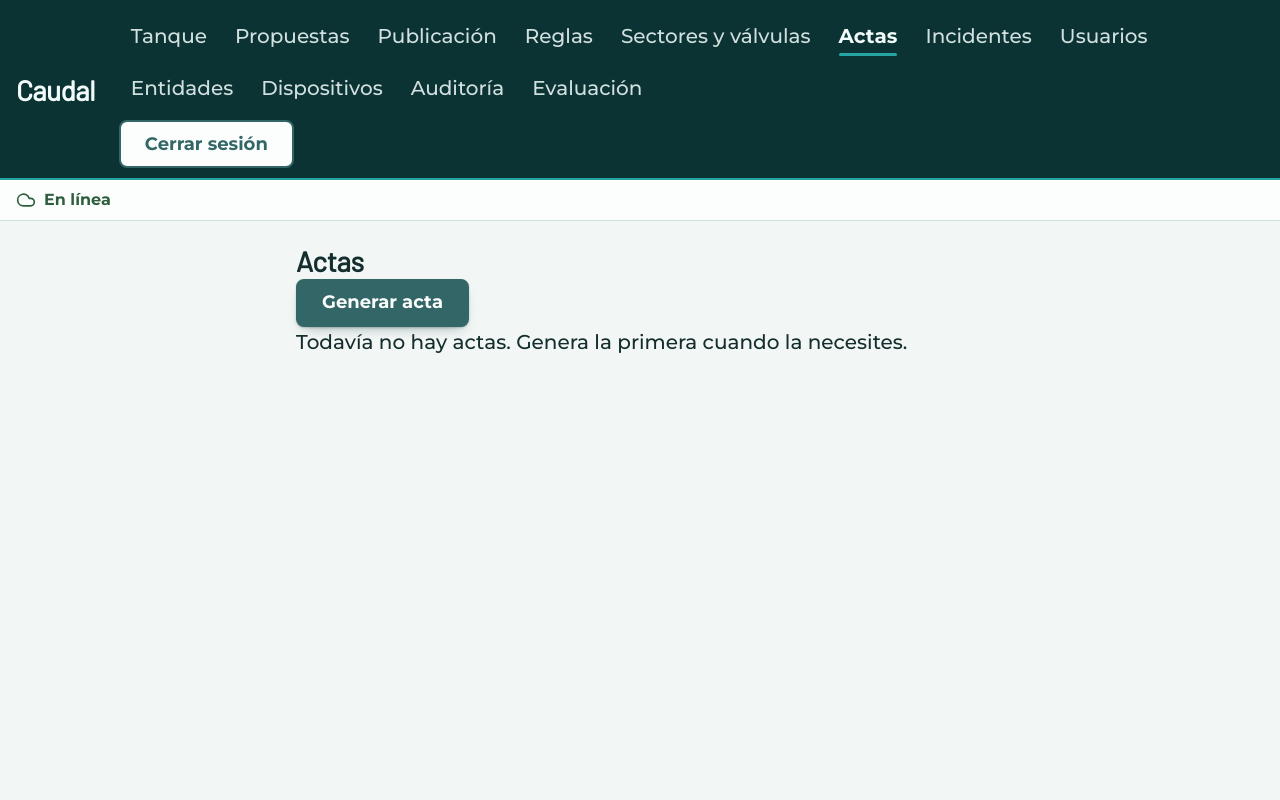
MinutesPage (S20, board) › refuses a period whose end is before its start, without asking the server
Click the button "Generar acta" at (382, 303), box left=296, top=279, right=469, bottom=327
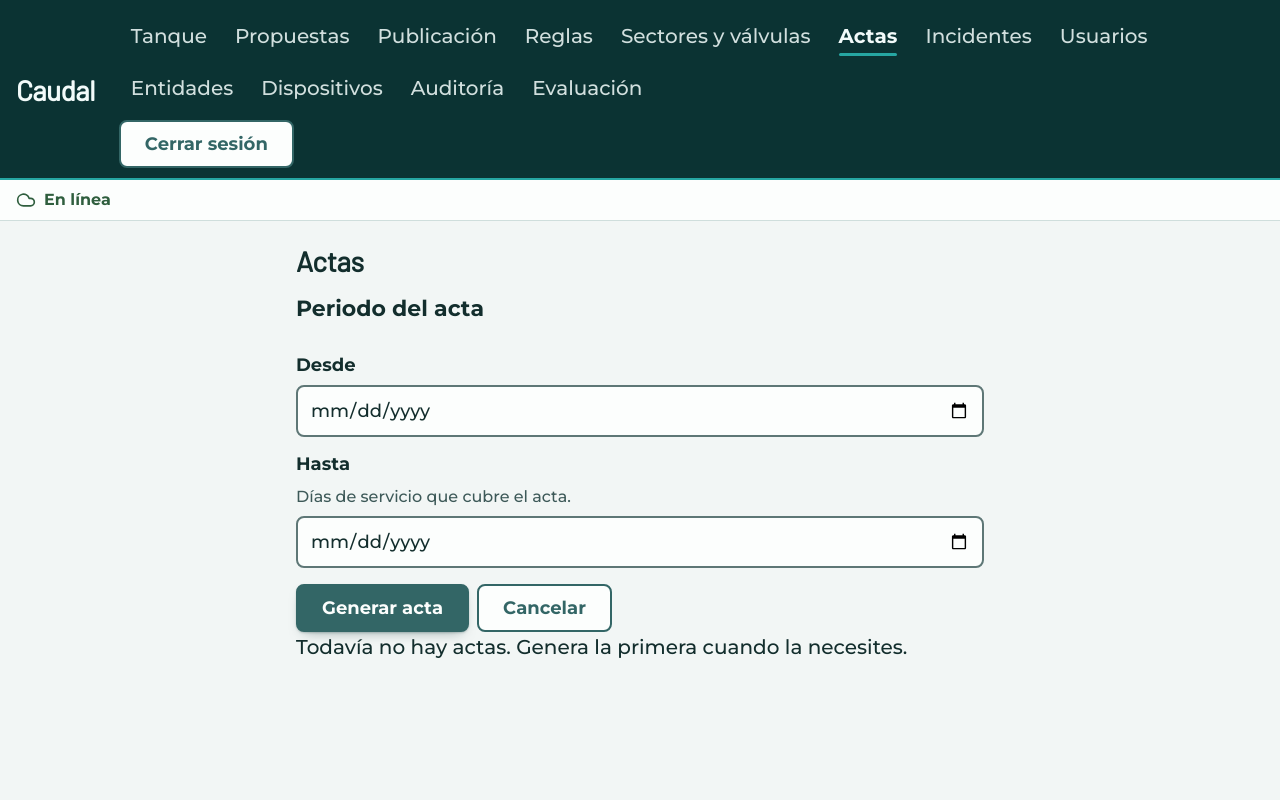
Type "2026-10-07" into the date field labelled "Desde" at (640, 412), box left=296, top=386, right=984, bottom=438
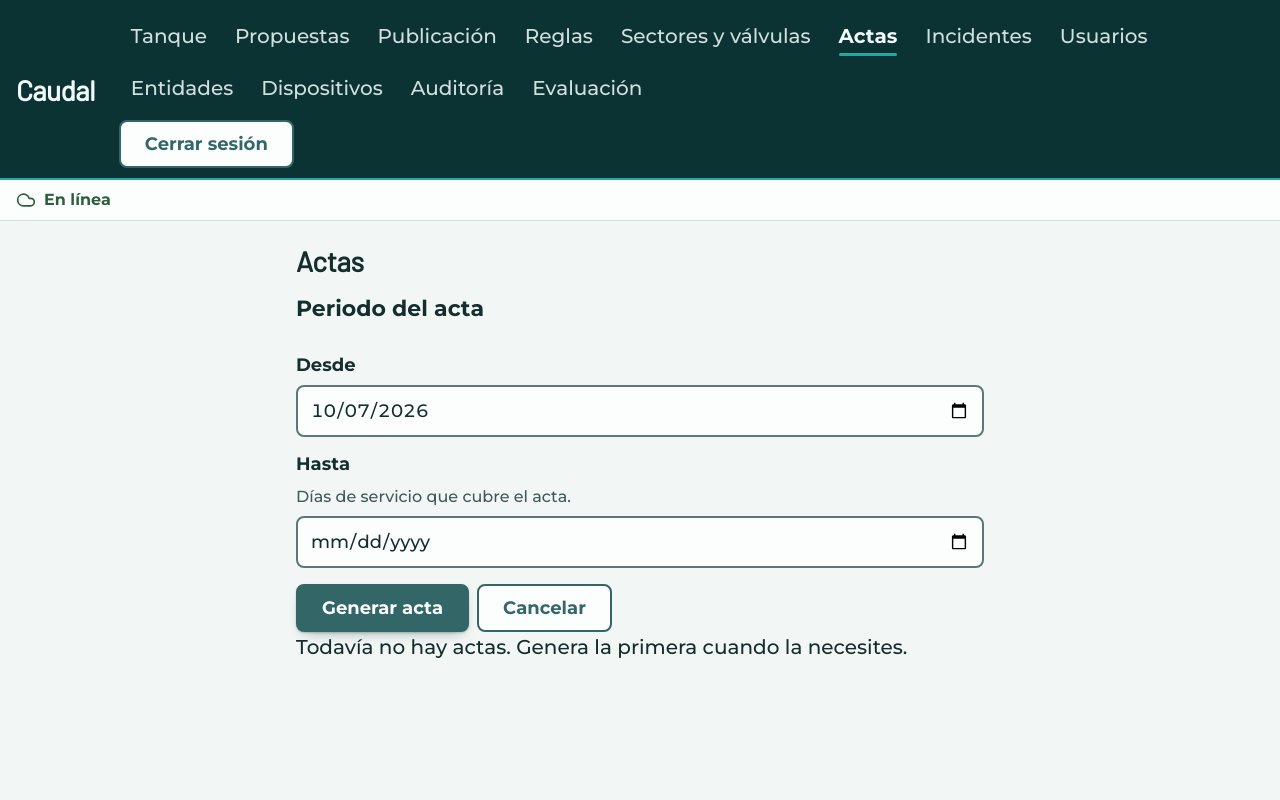
Type "2026-10-01" into the date field labelled "Hasta" at (640, 542), box left=296, top=516, right=984, bottom=568
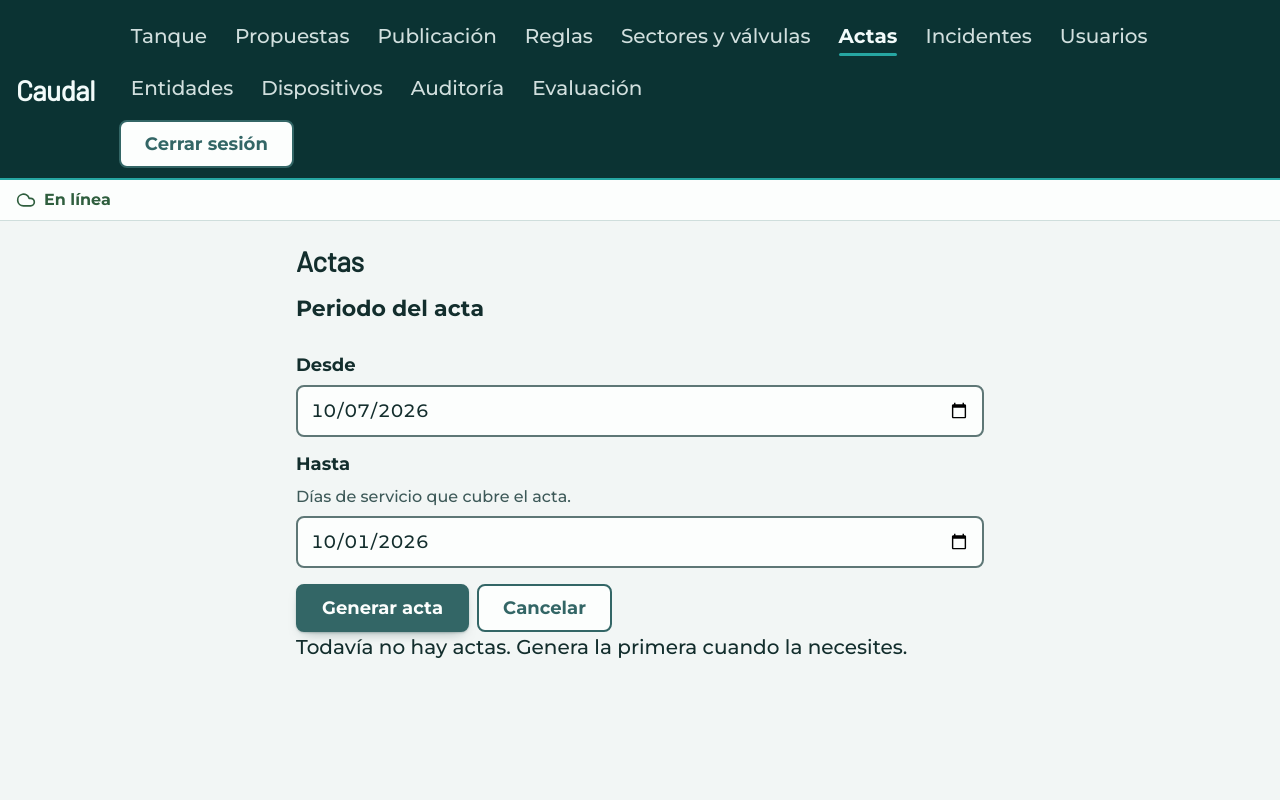
Click the button "Generar acta" at (382, 608), box left=296, top=584, right=469, bottom=632
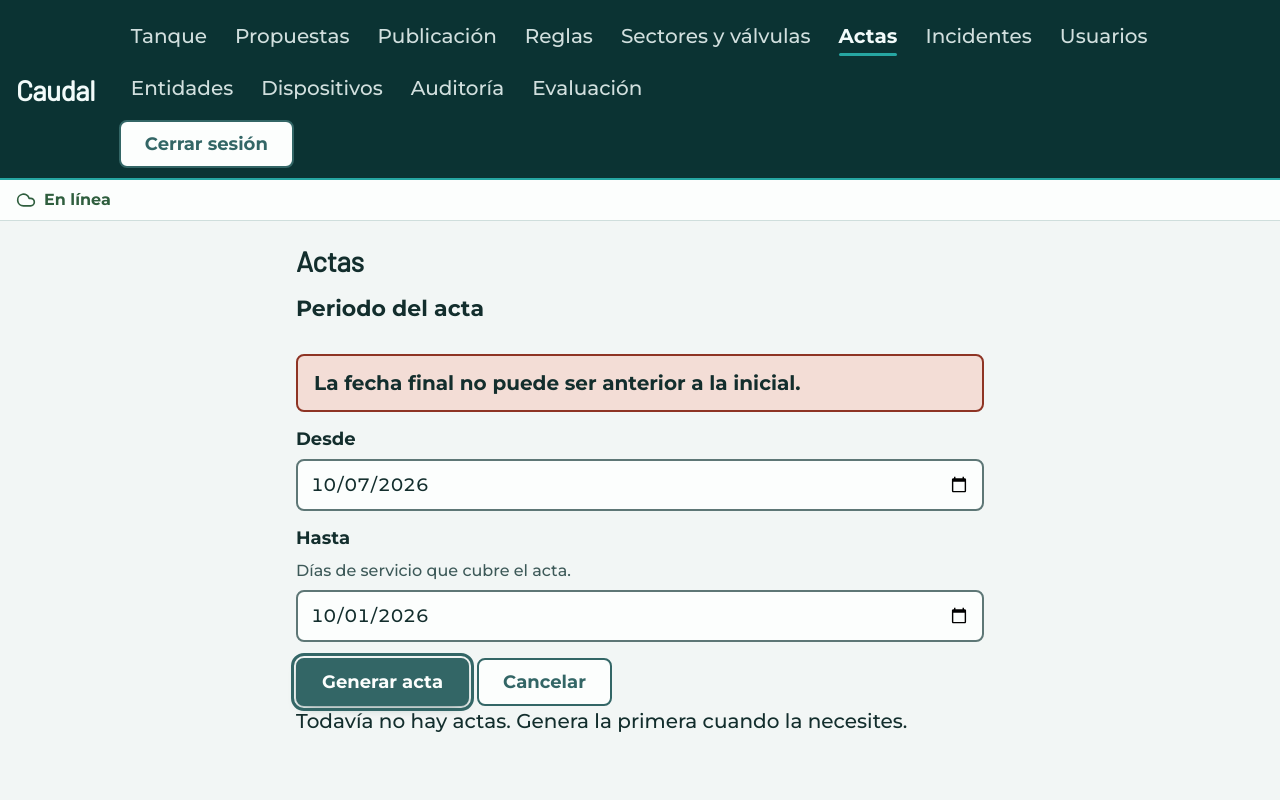
Result: the text "La fecha final no puede ser anterior a la inicial." is shown at left=314, top=371, right=800, bottom=395
